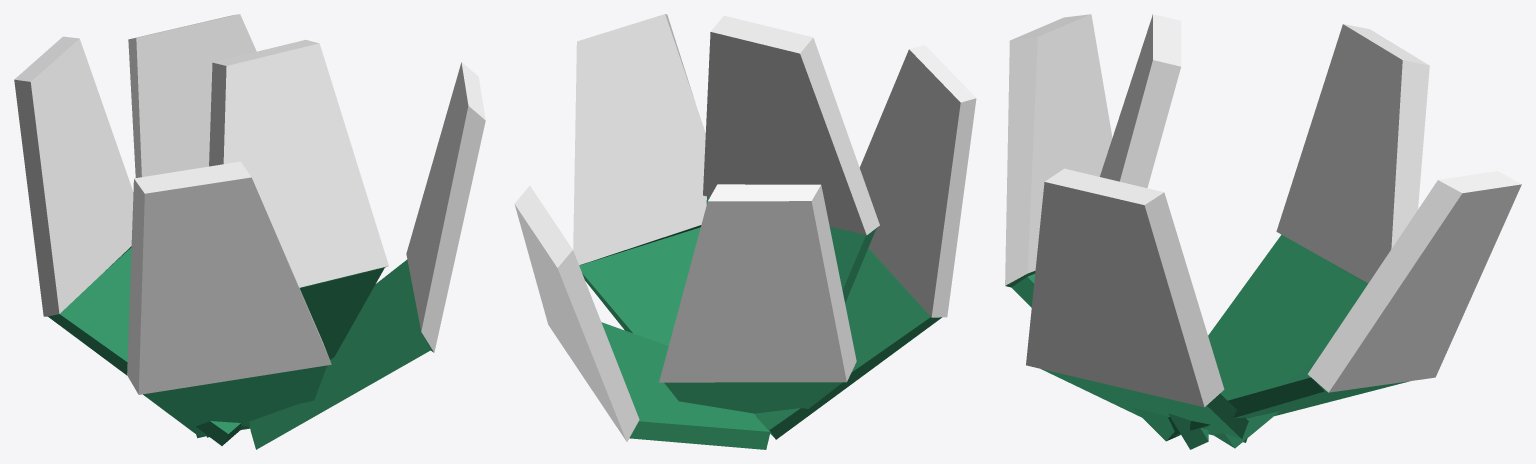
Rendered from Mesh_Grass_Inwards.glb.
3 views of the same model, side by side, from view 1: azimuth 30°, elevation 25°; view 2: azimuth 150°, elevation 25°; view 3: azimuth 270°, elevation 25° (orthographic). The views are drawn at different scales.
Parts seen in each view (by area): view 1: Mesh_Grass_Inwards; view 2: Mesh_Grass_Inwards; view 3: Mesh_Grass_Inwards.
Boxes of the visible parts, x1,y1,x2,y2 form: Mesh_Grass_Inwards: (14,14,485,449); Mesh_Grass_Inwards: (514,14,976,449); Mesh_Grass_Inwards: (1005,14,1521,449).
Size of the model in its own units: 0.1684 by 0.1737 by 0.1993.
1 material, 1 textured.
